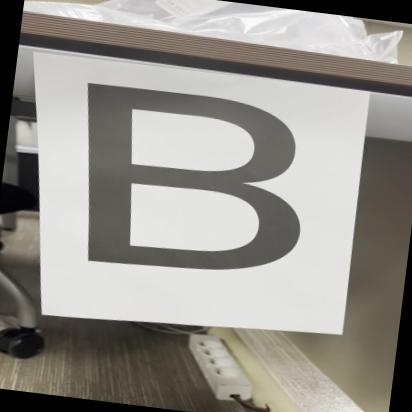seat: (38, 74, 342, 304)
